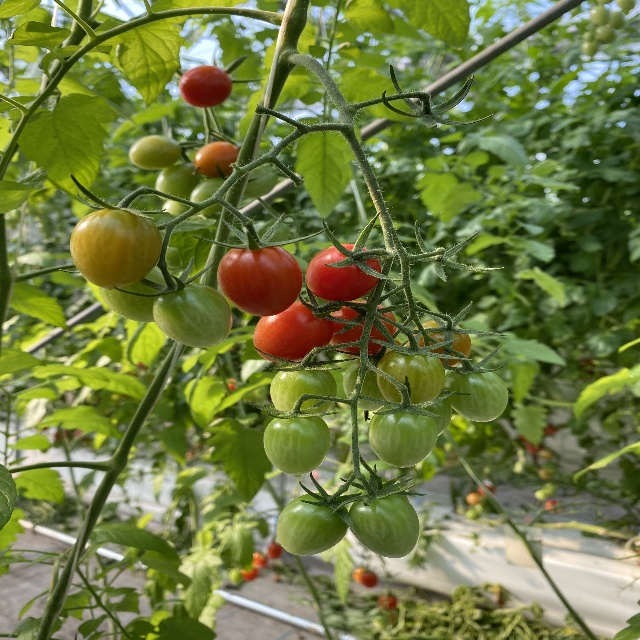l_fully_ripened: (217, 241, 302, 317), (253, 302, 335, 364), (305, 243, 382, 304), (330, 300, 398, 357), (179, 65, 234, 108)
l_green: (71, 208, 164, 291), (153, 282, 233, 348), (275, 493, 350, 556), (368, 402, 439, 467), (99, 265, 178, 322), (348, 496, 419, 559), (264, 410, 332, 475), (377, 347, 446, 407), (270, 360, 338, 418), (444, 365, 510, 423), (344, 356, 388, 412), (154, 162, 203, 200), (129, 136, 183, 169), (427, 392, 452, 437)
l_half_ripened: (408, 320, 471, 370), (194, 142, 241, 177)
